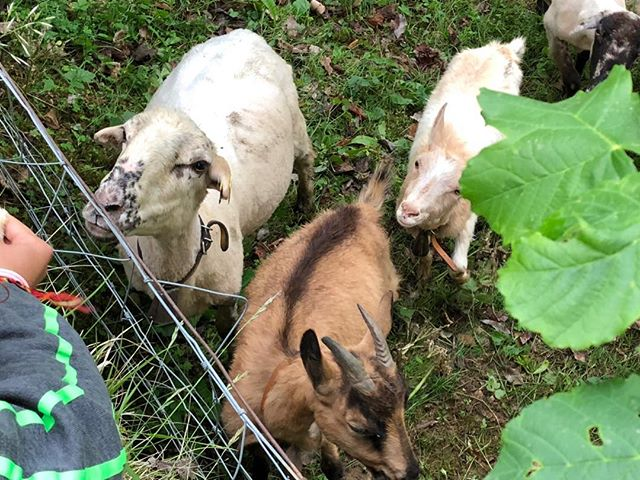animal: (94, 19, 321, 321), (242, 213, 446, 467), (389, 37, 529, 271)
